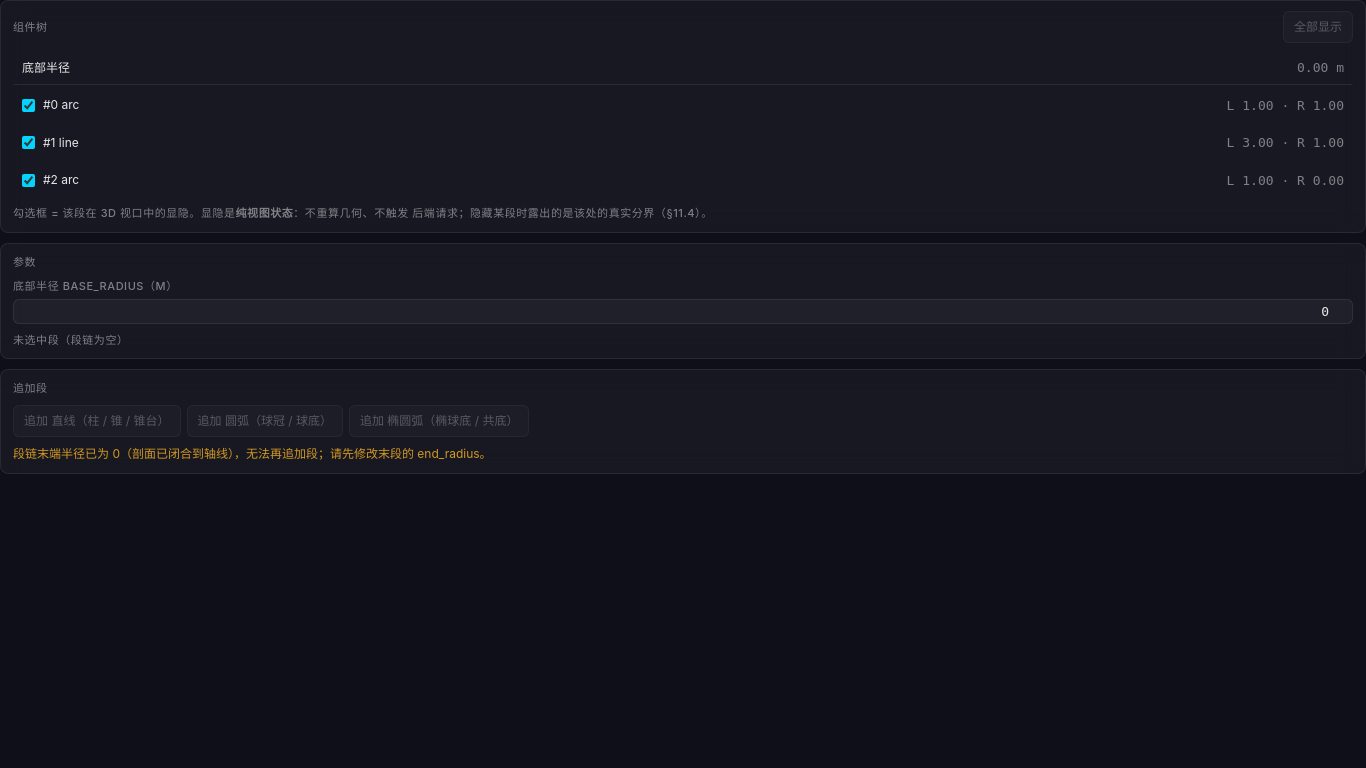
Test: 选中（树 ↔ 视口双向） › 点树上的段 = 选中该段（视口据此高亮该 `seg-<i>`）
The width and height of the screenshot is (1366, 768).
Click the button "#2 arc L 1.00 · R 0.00".
click(61, 180)  # box [43,170,1344,190]
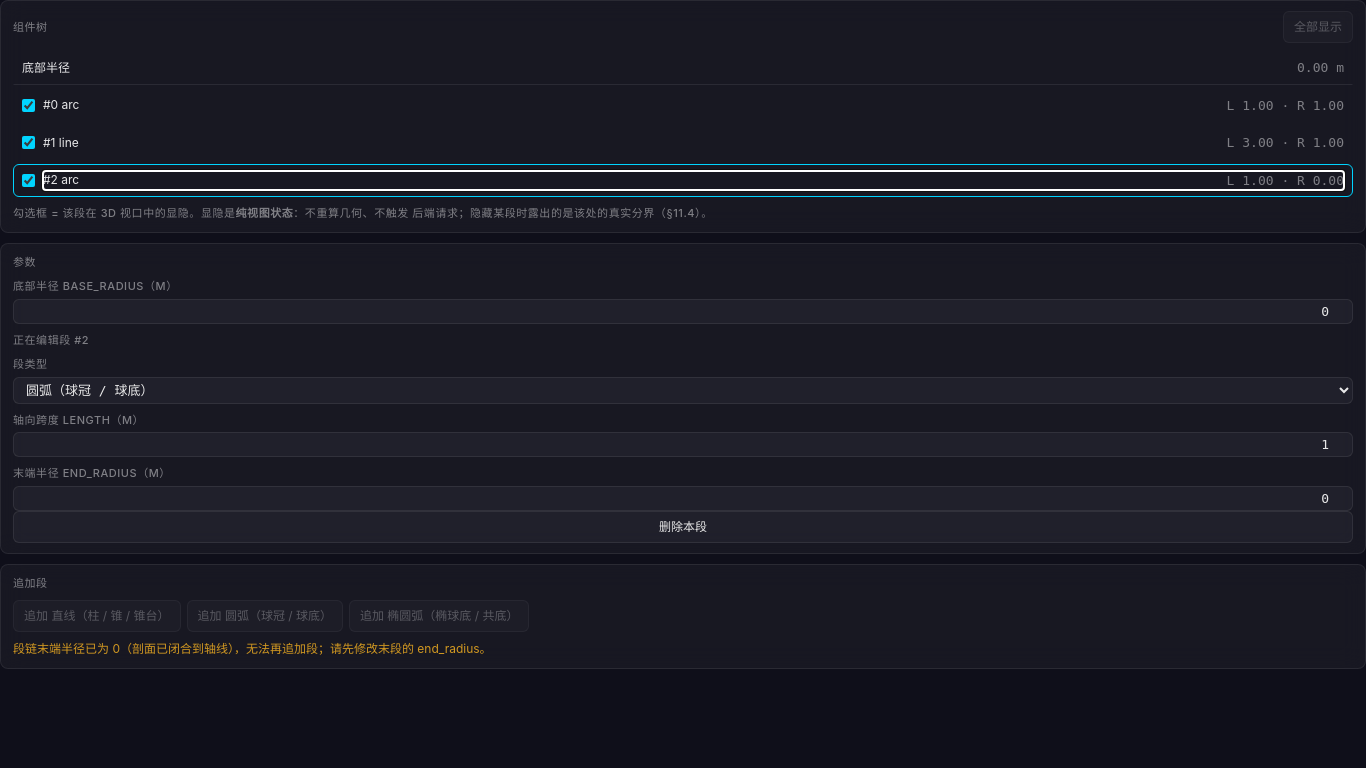
Check: the text "正在编辑段 #2" is shown, box [13,332,89,346]
